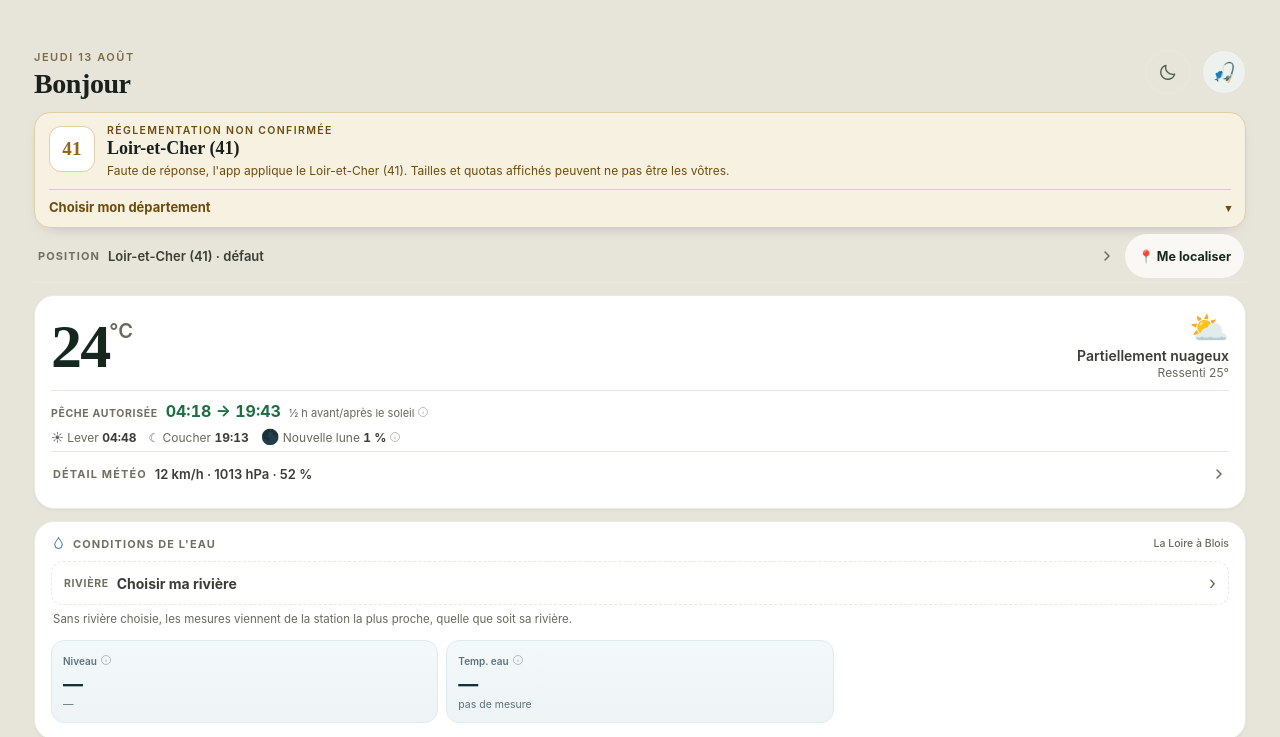
Test: Choisir sa rivière › choisir une rivière l'enregistre avec TOUTES ses clés de référentiel
Click the button "Rivière Choisir ma rivière ›" at {"x": 86, "y": 583}, box [51,561,1229,605]
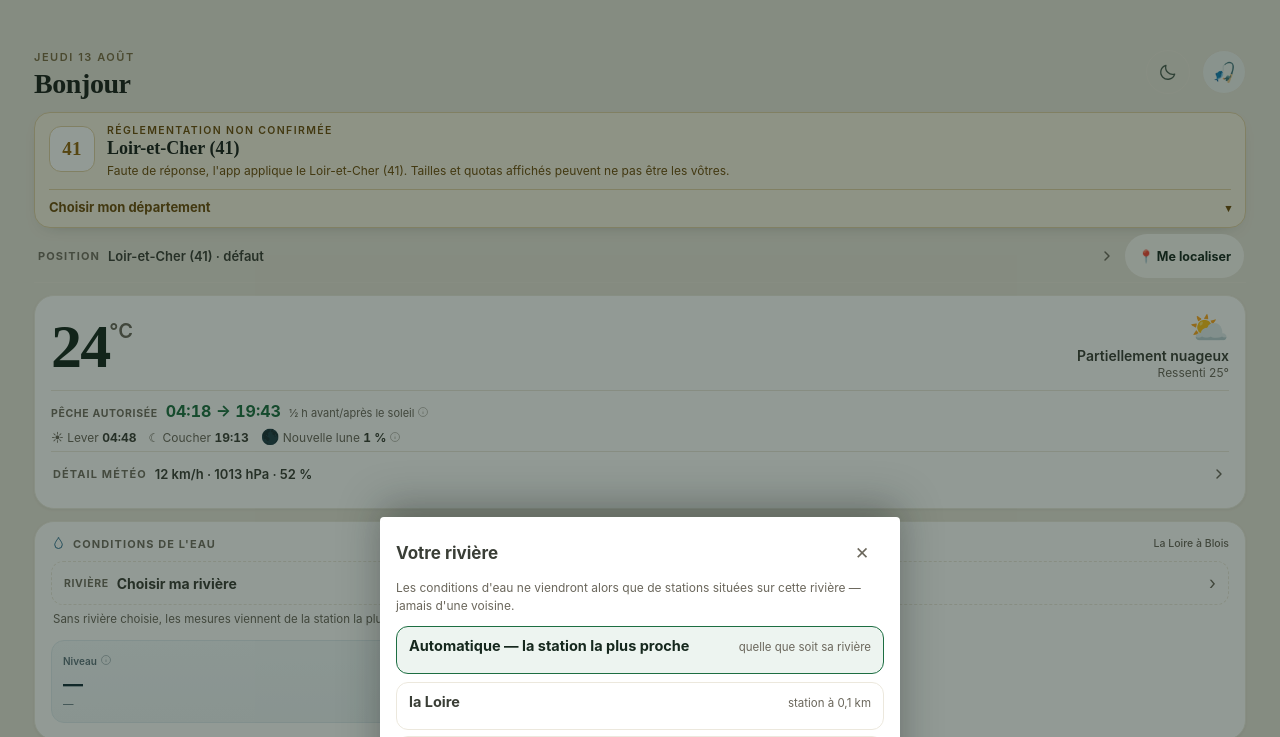
Click the button "la Loire station à 0,1 km" at {"x": 434, "y": 702}, box [396,682,884,730]
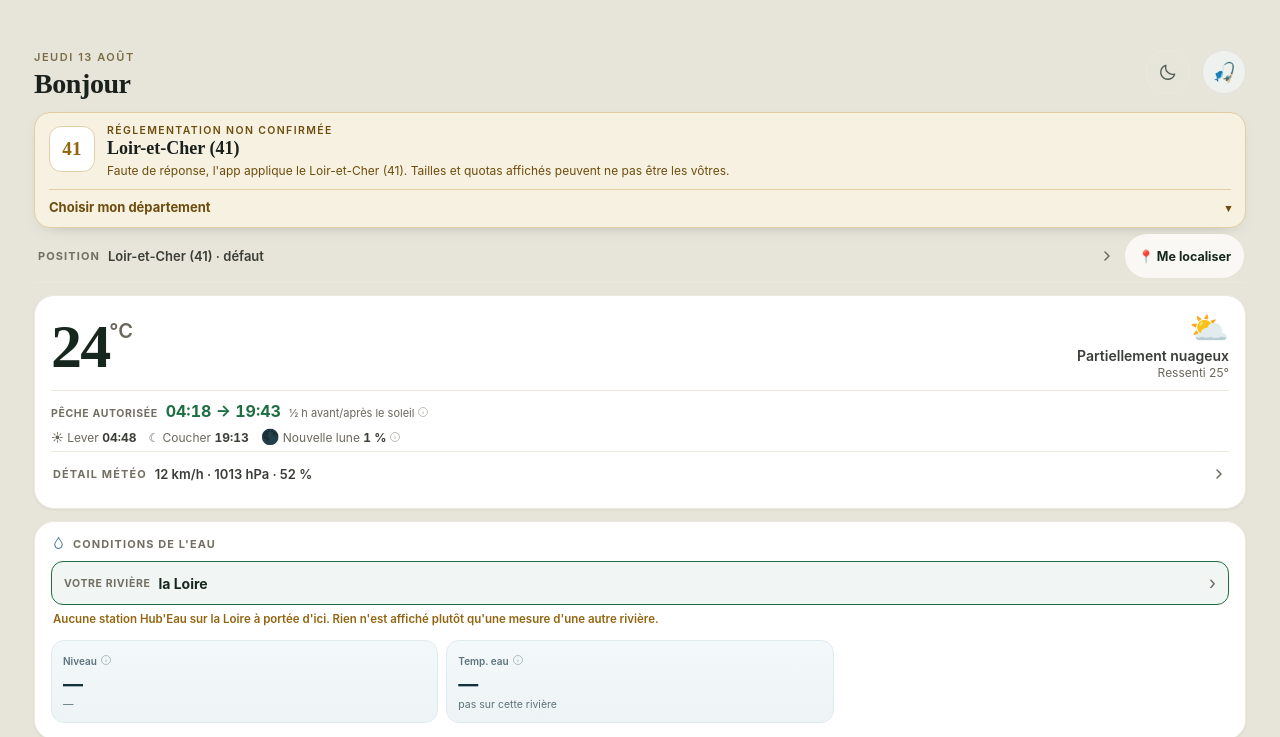
Now the text "la Loire" is shown, box [158,575,208,592]
